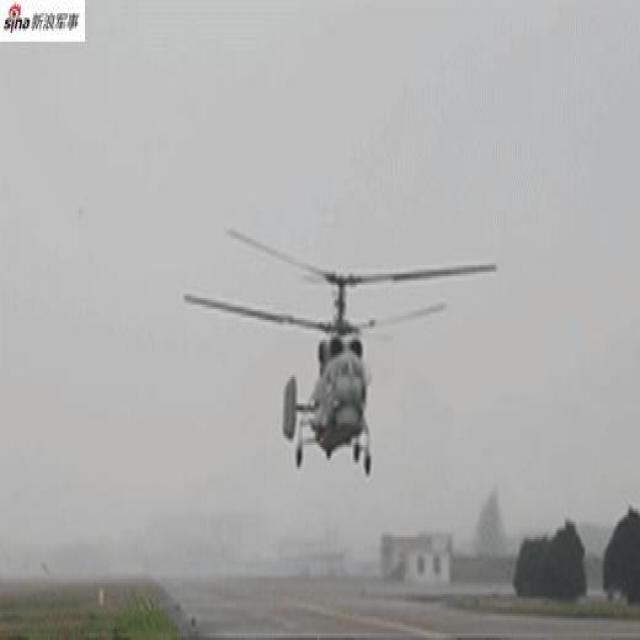MIL_HELO: (165, 215, 504, 478)
